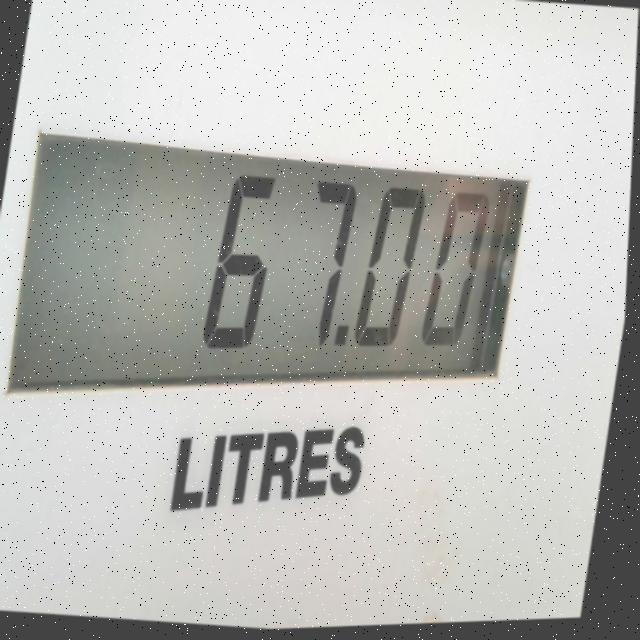.: (335, 326, 353, 351)
0: (356, 183, 432, 360), (428, 194, 488, 358)
6: (206, 175, 283, 357)
7: (296, 184, 357, 350)
